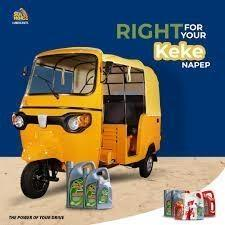keke: (14, 45, 162, 199), (18, 40, 160, 194)
